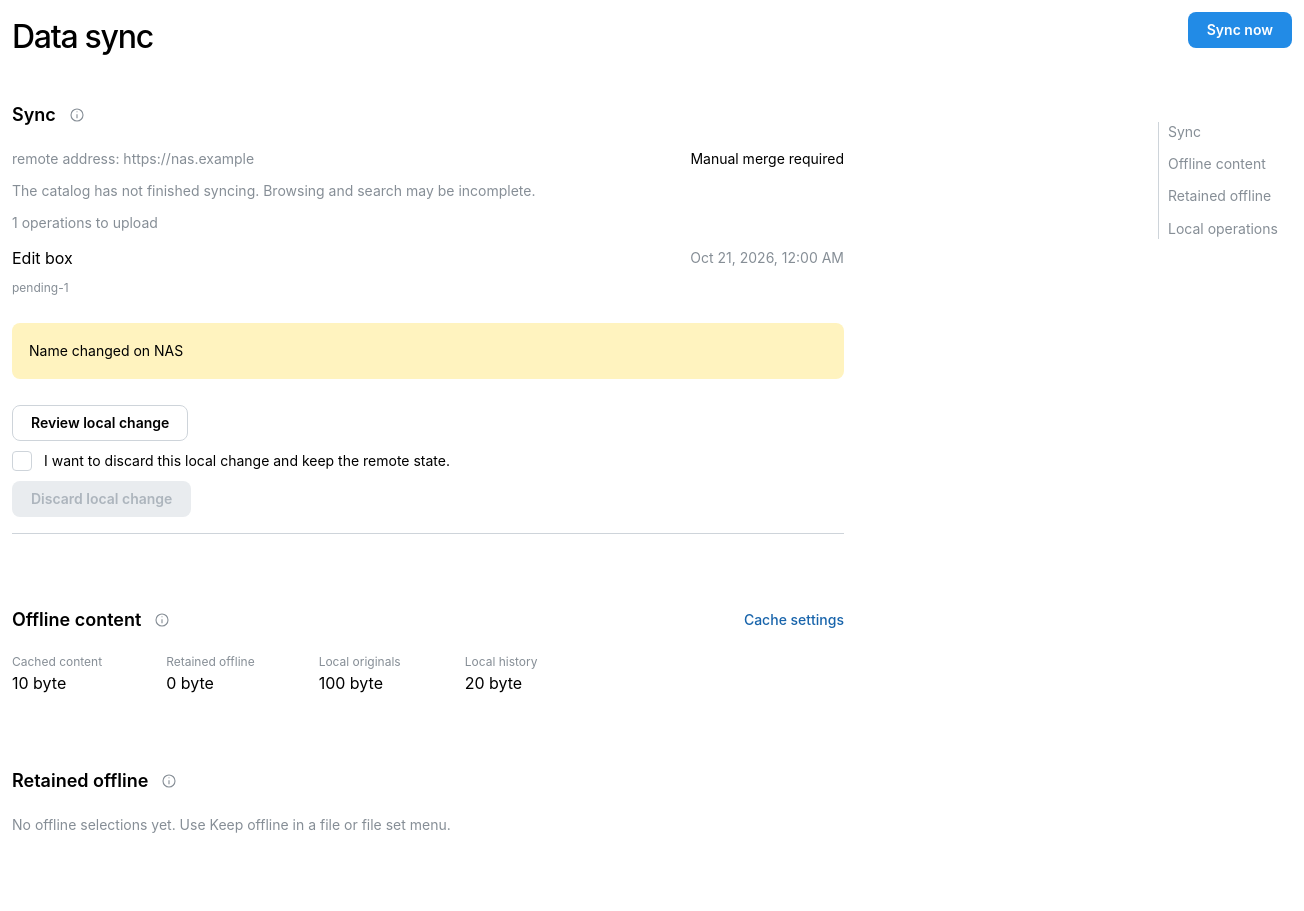
Scenario: requires an explicit conflict decision before discarding
Expected: the button "Discard local change" is disabled, [12,481,191,517]
Click the checkbox labelled "discard this local change": (22, 461) [12,451,32,471]
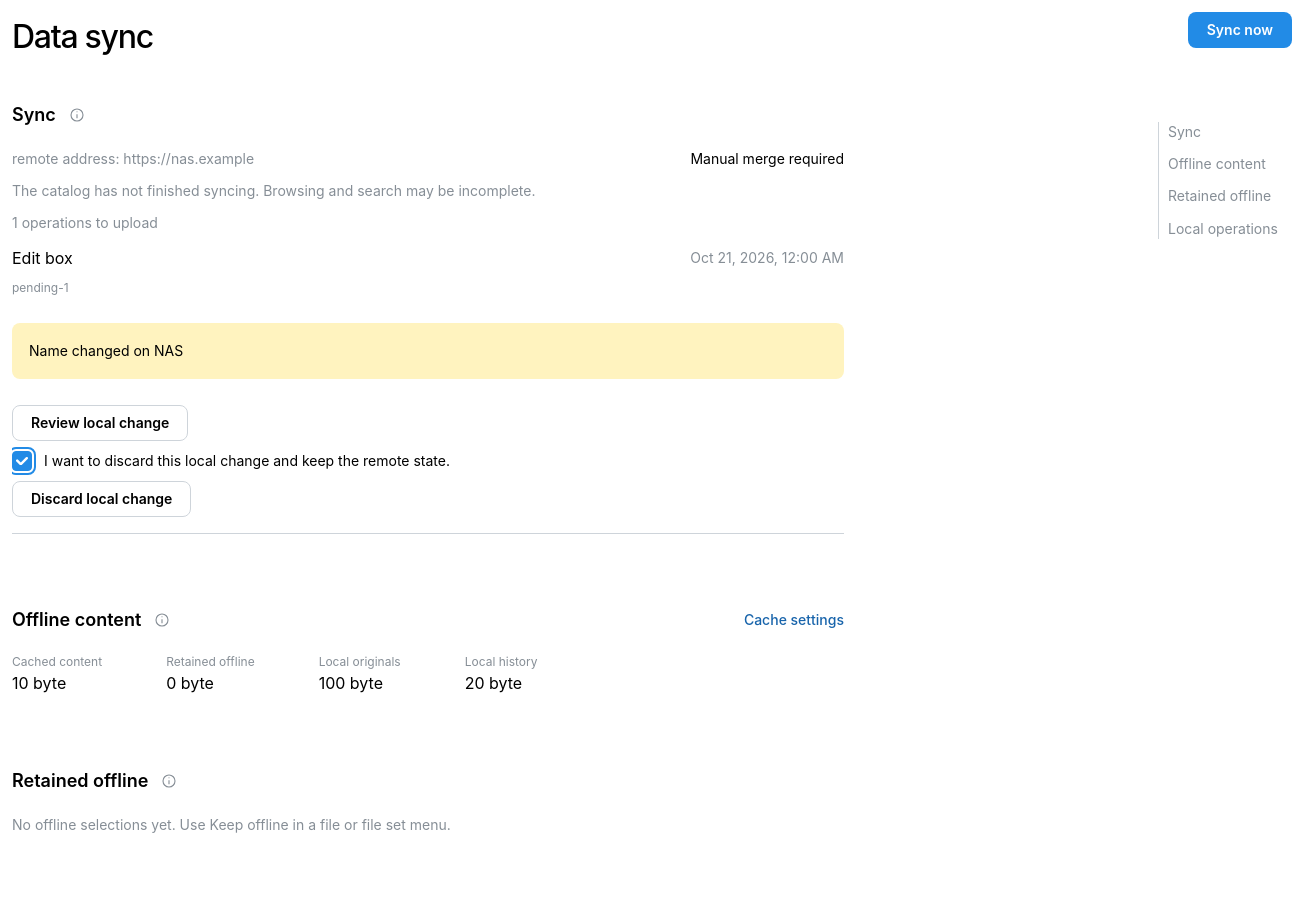
Click the button "Discard local change": (102, 499) [12,481,191,517]
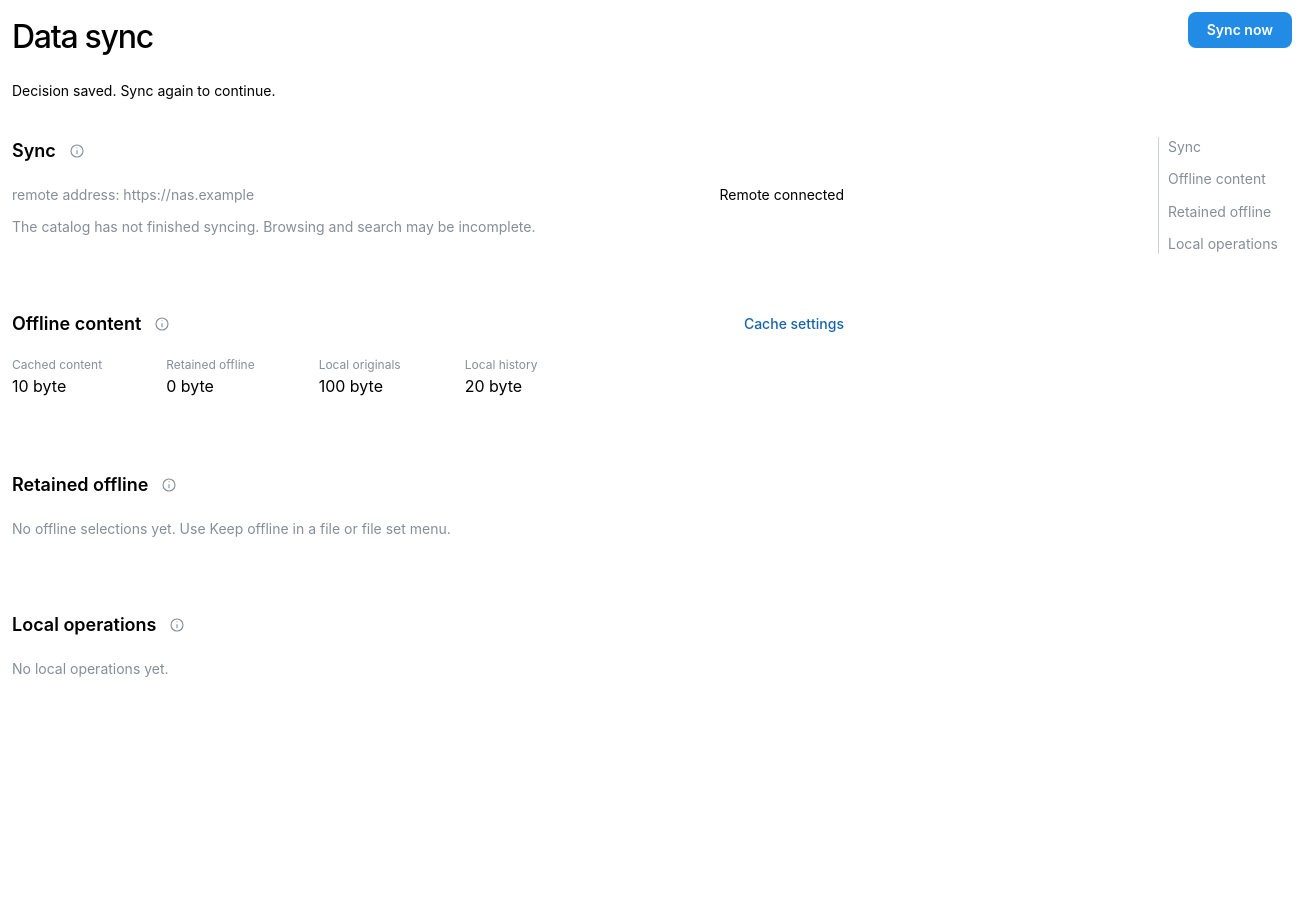
Expected: the text "Decision saved. Sync again to continue." is shown, [12,82,276,99]
